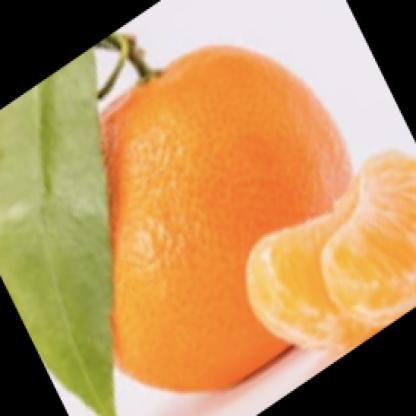fresh: (58, 44, 356, 393)
